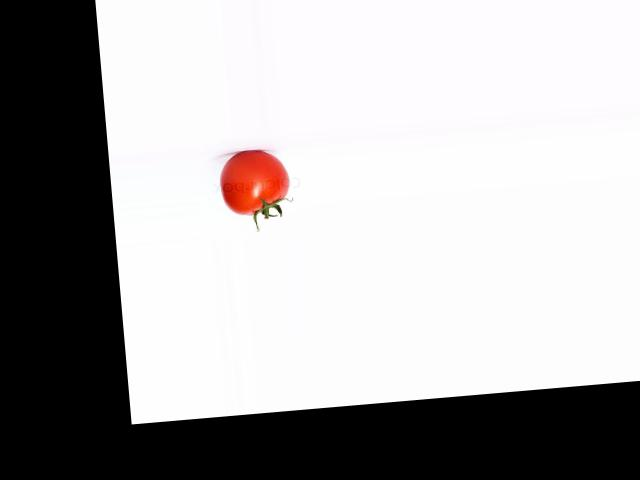tomato: (217, 148, 291, 217)
